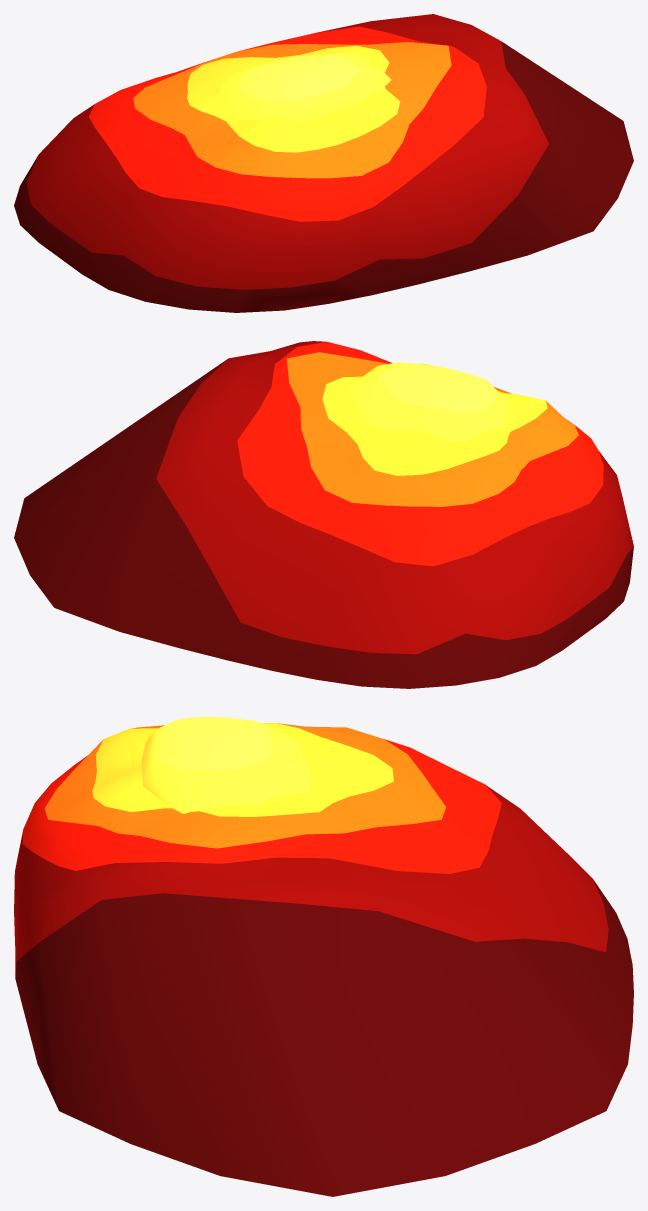
File: shot_eminor_45.glb
3 renders of one model, top to bottom at view 1: azimuth 30°, elevation 25°; view 2: azimuth 150°, elevation 25°; view 3: azimuth 270°, elevation 25°, orthographic. The views are drawn at different scales.
Visible parts, largest first — view 1: shot_eminor_45_fire, shot_eminor_45_heart; view 2: shot_eminor_45_fire, shot_eminor_45_heart; view 3: shot_eminor_45_fire, shot_eminor_45_heart.
Part boxes in pixels (x1=…): shot_eminor_45_fire: x1=14, y1=14, x2=633, y2=312; shot_eminor_45_heart: x1=215, y1=53, x2=391, y2=122; shot_eminor_45_fire: x1=14, y1=341, x2=633, y2=688; shot_eminor_45_heart: x1=345, y1=362, x2=509, y2=441; shot_eminor_45_fire: x1=14, y1=723, x2=633, y2=1196; shot_eminor_45_heart: x1=141, y1=717, x2=310, y2=813.
Bounding box in the file's own units: 11.2 × 3.38 × 8.23.
